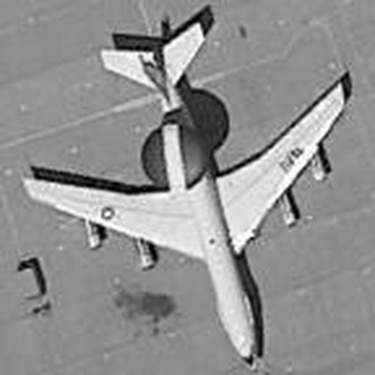airplane: (18, 18, 356, 371)
